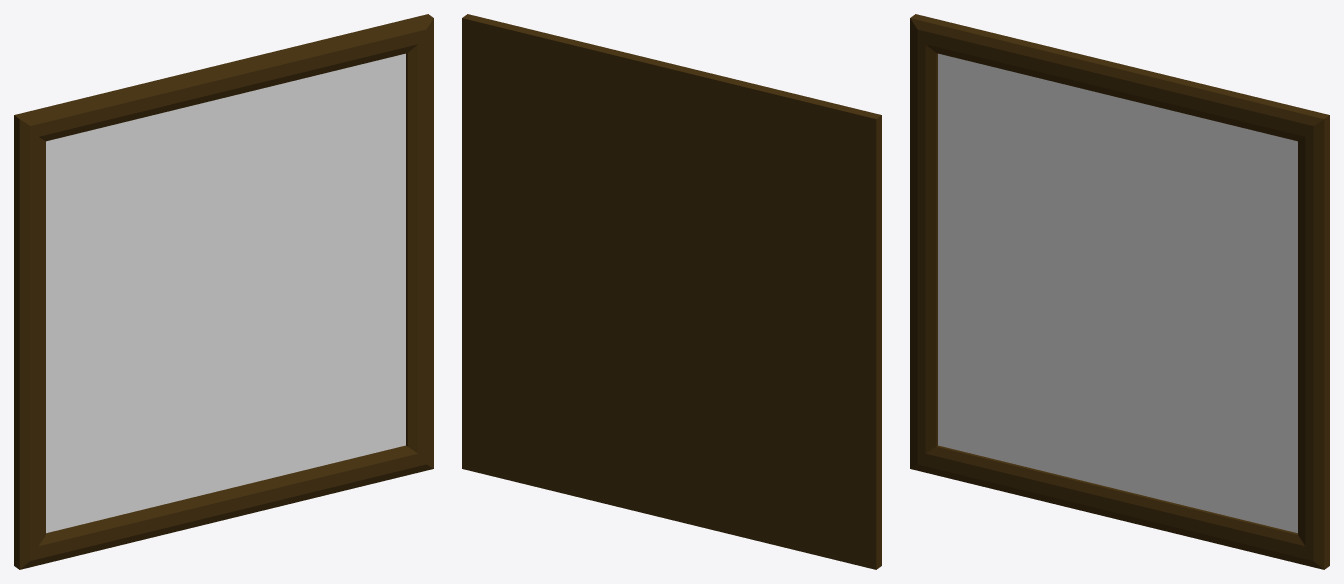
File: geo_LargeWallFrame.fbx
The picture shows the model from 3 angles, left to right: view 1: azimuth 30°, elevation 25°; view 2: azimuth 150°, elevation 25°; view 3: azimuth 330°, elevation 25°; orthographic projection.
Visible parts, largest first — view 1: pCube60; view 2: pCube60; view 3: pCube60.
Boxes of the visible parts, <box> form: pCube60: <box>14,14,433,569</box>; pCube60: <box>462,14,881,569</box>; pCube60: <box>910,14,1329,569</box>.
Size of the model in its own units: 79.71 by 82.88 by 2.42.
1 material, 1 textured.
